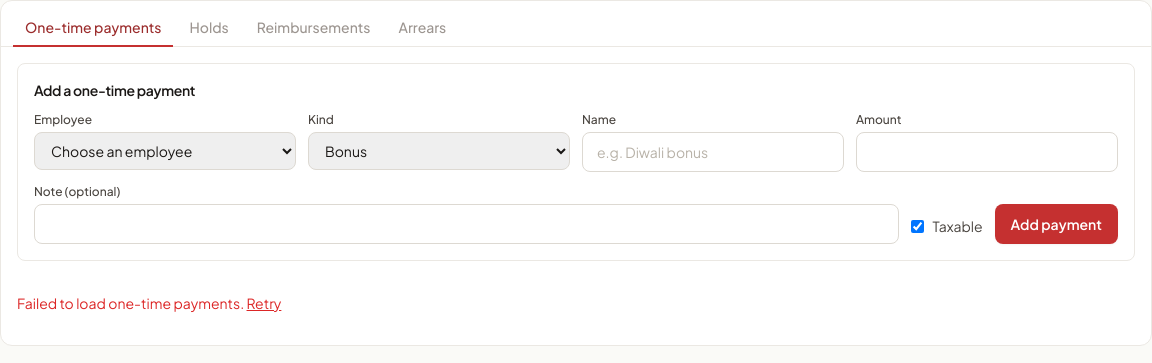
Scenario: RunAdjustmentsTabs › one-time payments › shows an error state with retry
The width and height of the screenshot is (1152, 363).
Expected: the text "Failed to load one-time payments. Retry" is shown, [17,293,281,313]
Click the button "Retry" at (264, 303), box [246,293,281,313]
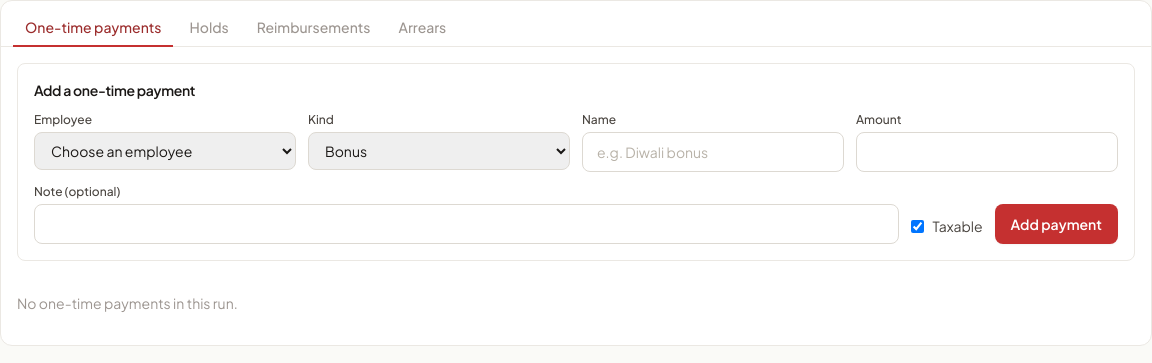
Expected: the text "No one-time payments in this run." is shown, [17,294,238,312]
